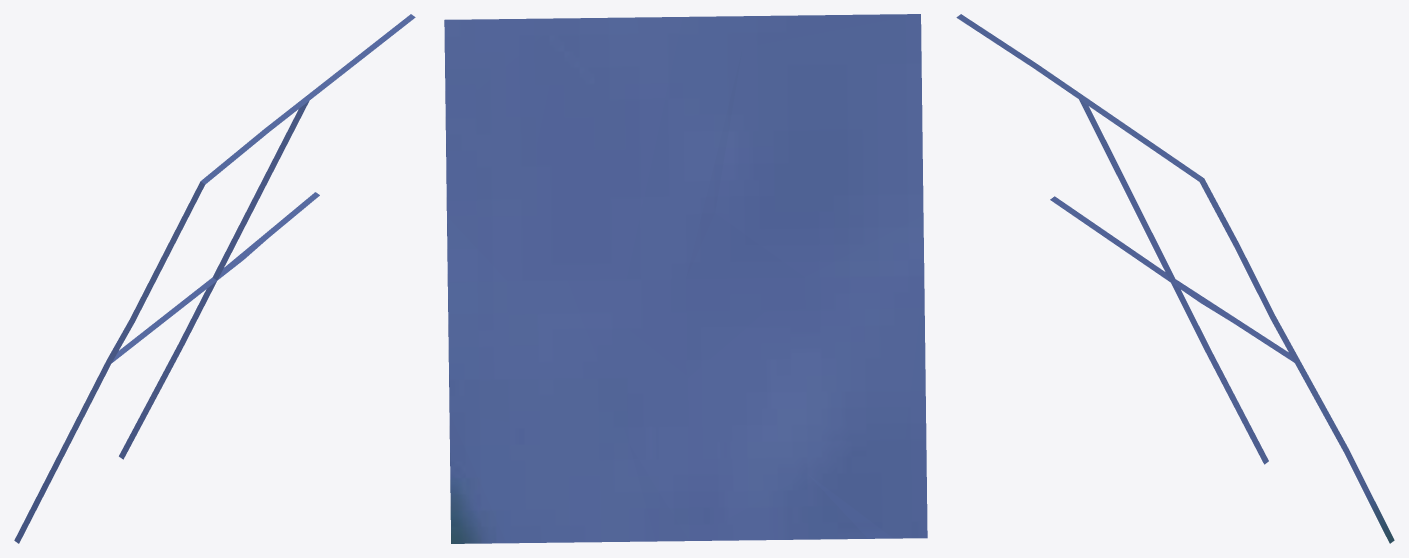
The picture shows the model from 3 angles, left to right: view 1: azimuth 30°, elevation 25°; view 2: azimuth 150°, elevation 25°; view 3: azimuth 270°, elevation 25°; orthographic projection. The views are drawn at different scales.
Size of the model in its own units: 4896 by 4434 by 4223.
Materials: 1 (1 with a texture image).
